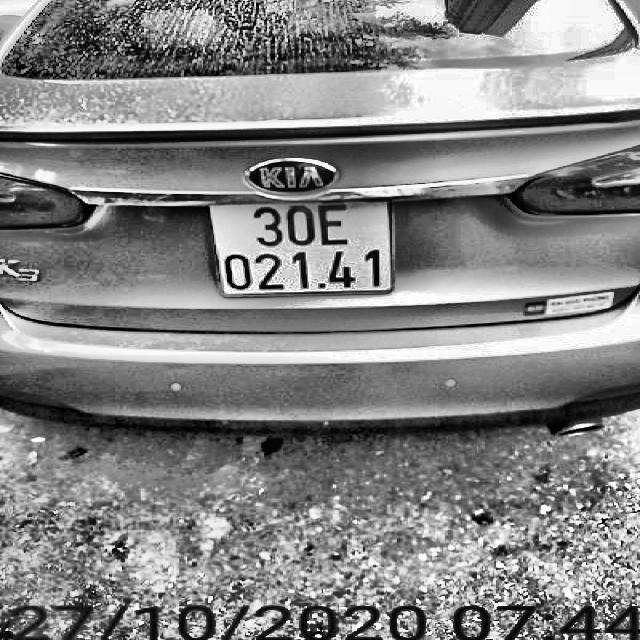plate: (204, 196, 400, 304)
